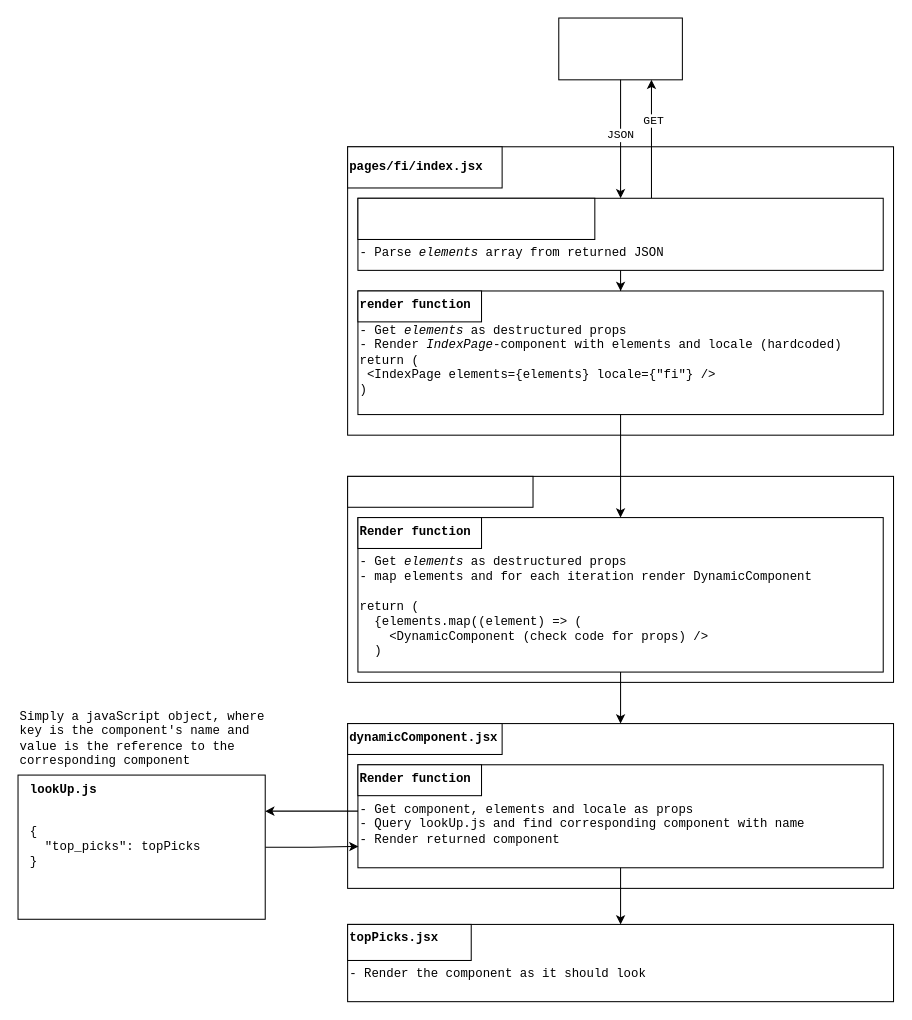
This 912x1020 diagram has some shape labels left out. Each missing label, with the centre of its shape:
"export const getStaticProps()" goes at pixel 476 218.
"pageComponents/index.jsx" goes at pixel 440 491.
"WP REST API" goes at pixel 620 48.
